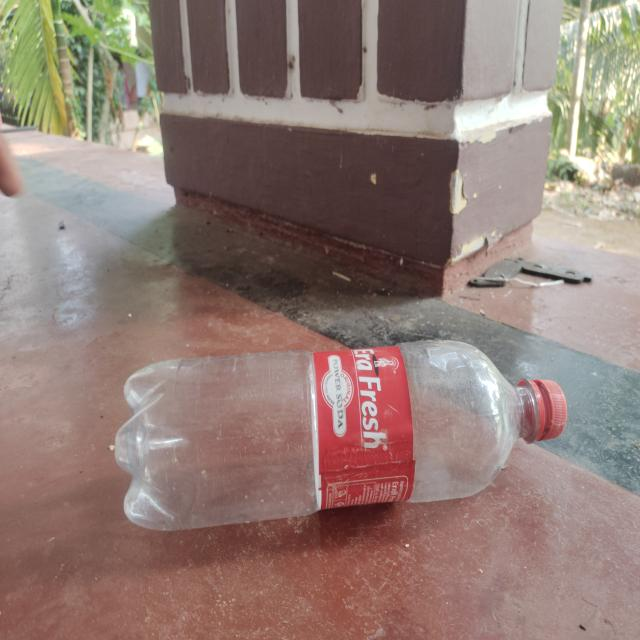plastic: (114, 336, 569, 535)
